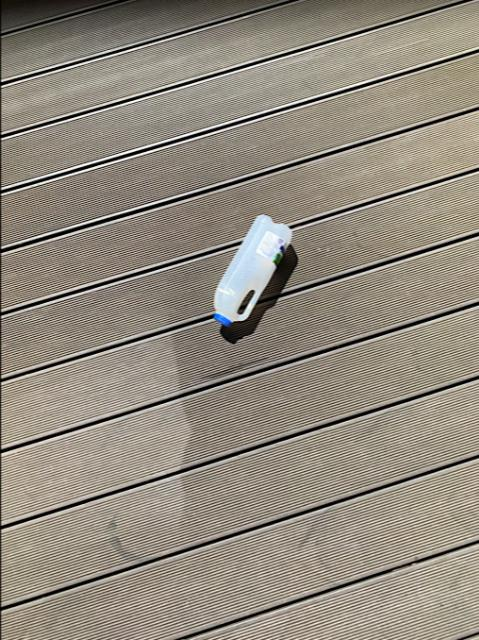plastic: (212, 217, 290, 327)
